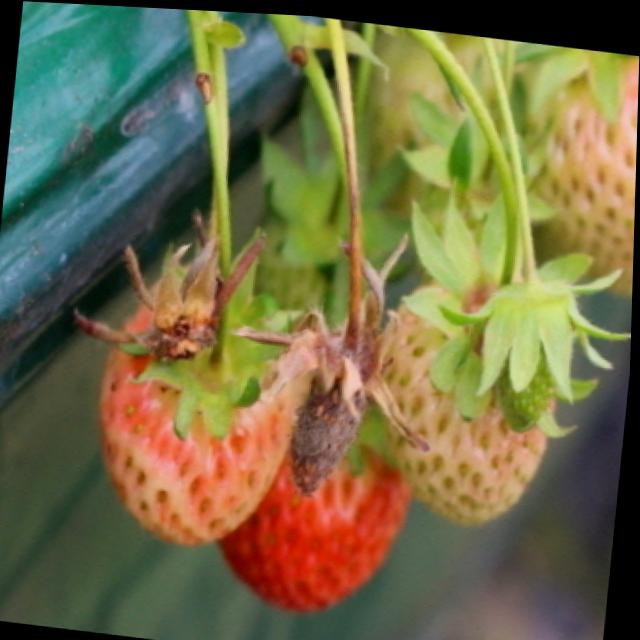Gray Mold: (289, 237, 432, 493)
